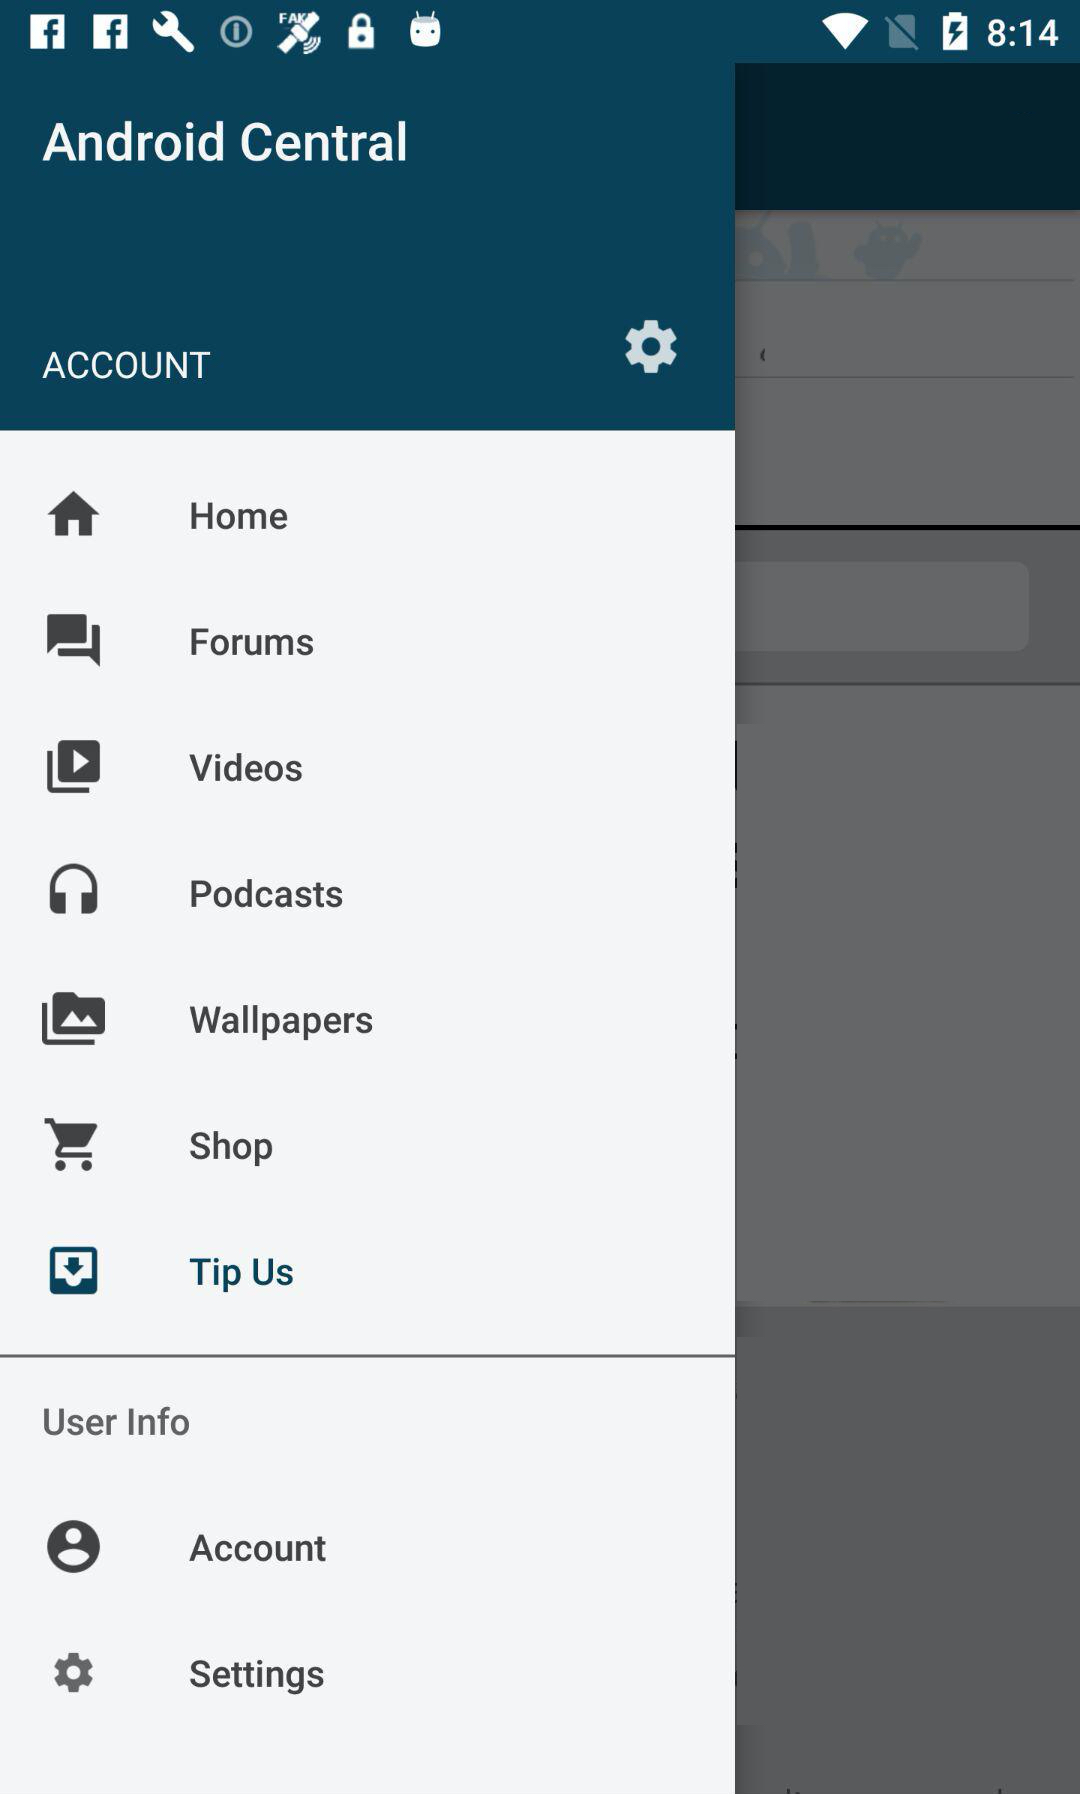Drawer: (1, 64, 735, 1794)
Icon: (42, 991, 108, 1046), (624, 318, 679, 377), (47, 613, 102, 670), (46, 739, 102, 794), (47, 1518, 102, 1574), (44, 1117, 99, 1173), (47, 490, 102, 538), (49, 1246, 99, 1296), (54, 1652, 95, 1693)
Image: (49, 862, 99, 916)
Text: (42, 120, 407, 164), (190, 1005, 374, 1042), (190, 1658, 325, 1697), (42, 351, 211, 381), (191, 878, 345, 909), (44, 1404, 191, 1436), (190, 1533, 328, 1563), (190, 1256, 295, 1294), (191, 627, 315, 657), (190, 752, 304, 783), (190, 1130, 274, 1167), (191, 501, 290, 531)
UpperTaskBar: (1, 1, 1080, 64)
